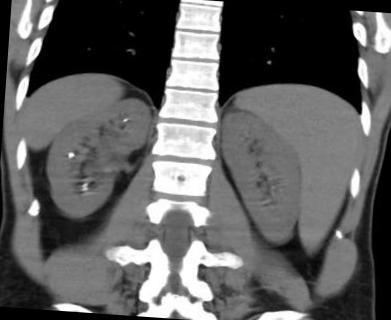Tas_Var: (65, 149, 75, 160), (79, 186, 88, 192), (80, 181, 88, 187), (122, 117, 127, 122)
